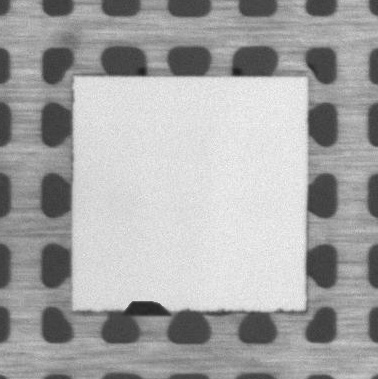DIE_BROKEN: (121, 299, 172, 316)
